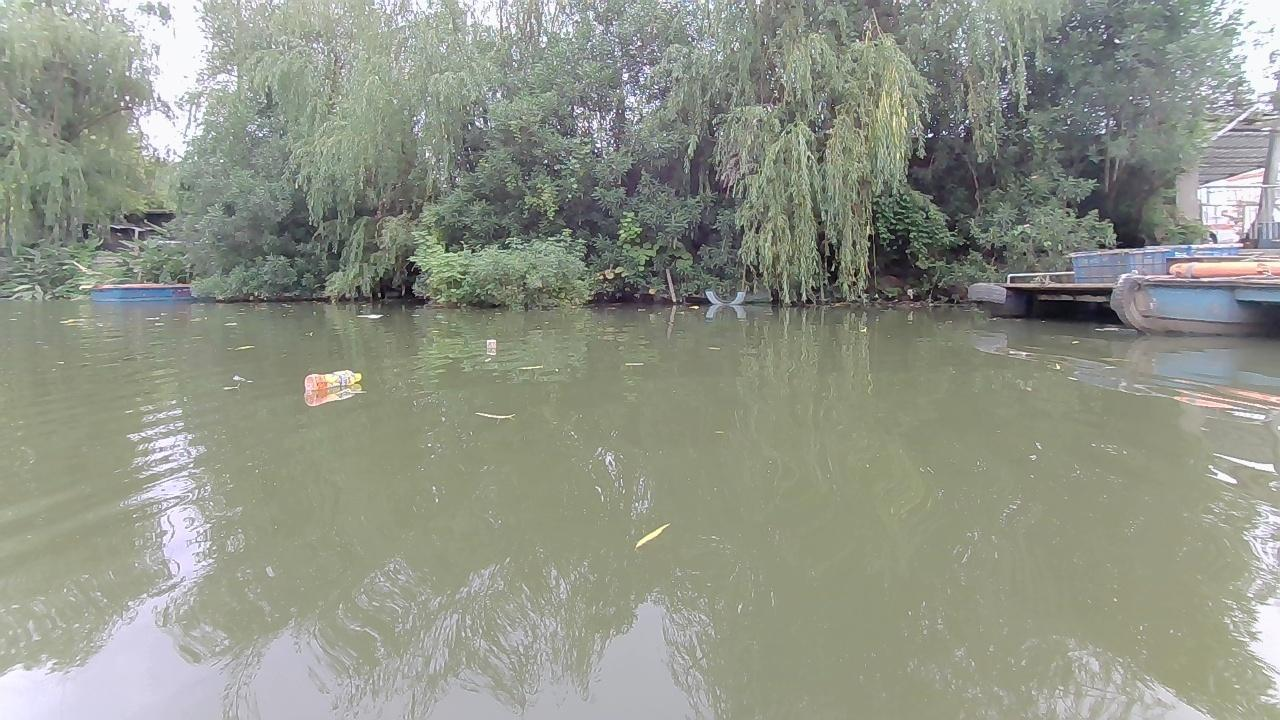bottle: (305, 367, 361, 396), (481, 335, 495, 354)
